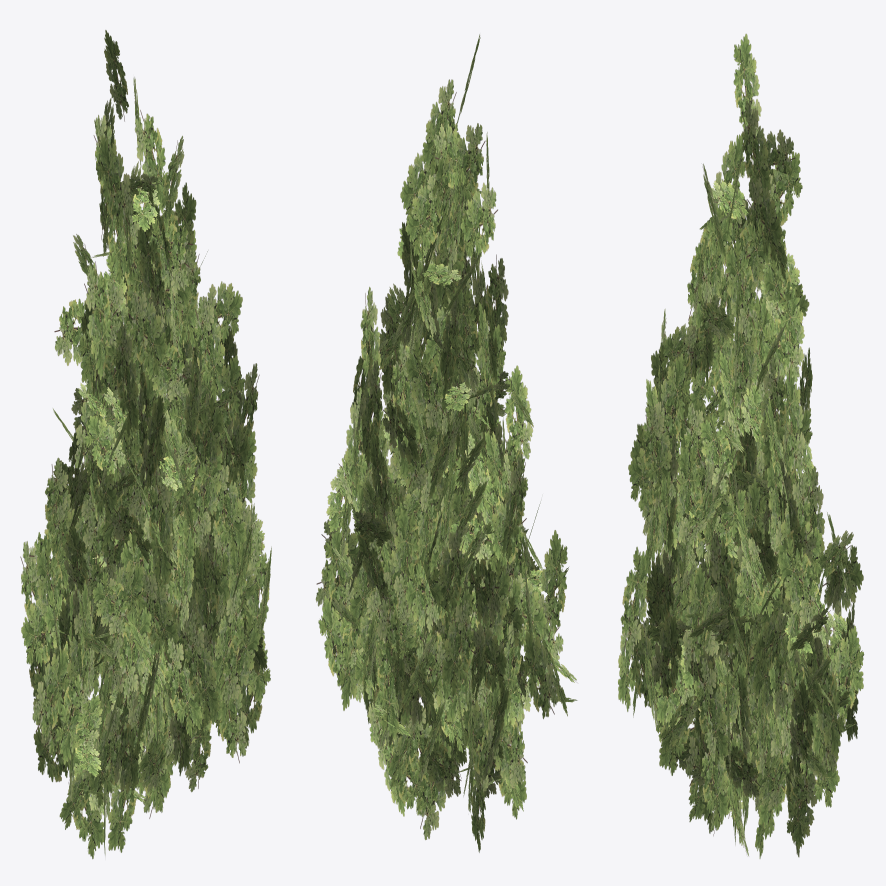
The model's file is pine.glb.
3 renders of one model, left to right at view 1: azimuth 30°, elevation 25°; view 2: azimuth 150°, elevation 25°; view 3: azimuth 270°, elevation 25°, orthographic. The views are drawn at different scales.
Visible parts, largest first — view 1: Cube; view 2: Cube; view 3: Cube.
Part boxes in pixels (x1,y1,x2,y2): Cube: (20, 30, 271, 859); Cube: (315, 34, 577, 852); Cube: (618, 33, 864, 858).
Bounding box in the file's own units: 6.9 × 24.52 × 6.73.
Materials: 1 (1 with a texture image).
